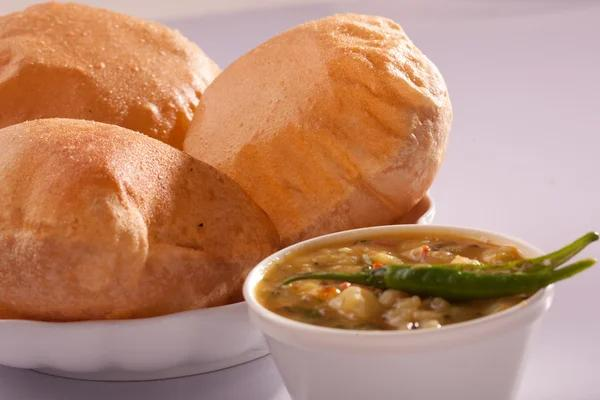puri: (2, 0, 454, 223)
